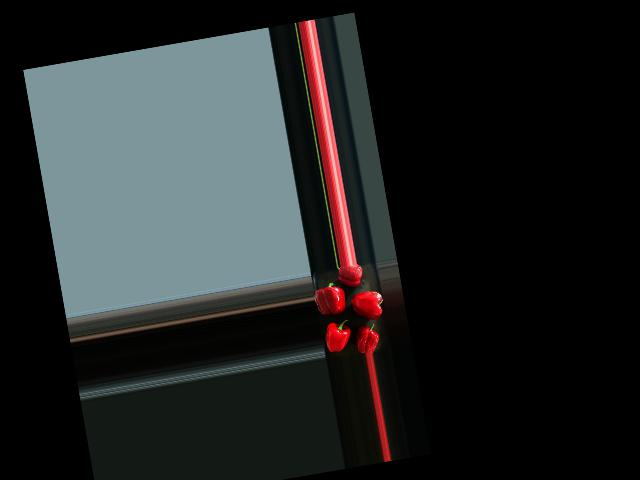bell_pepper: (335, 263, 369, 290)
